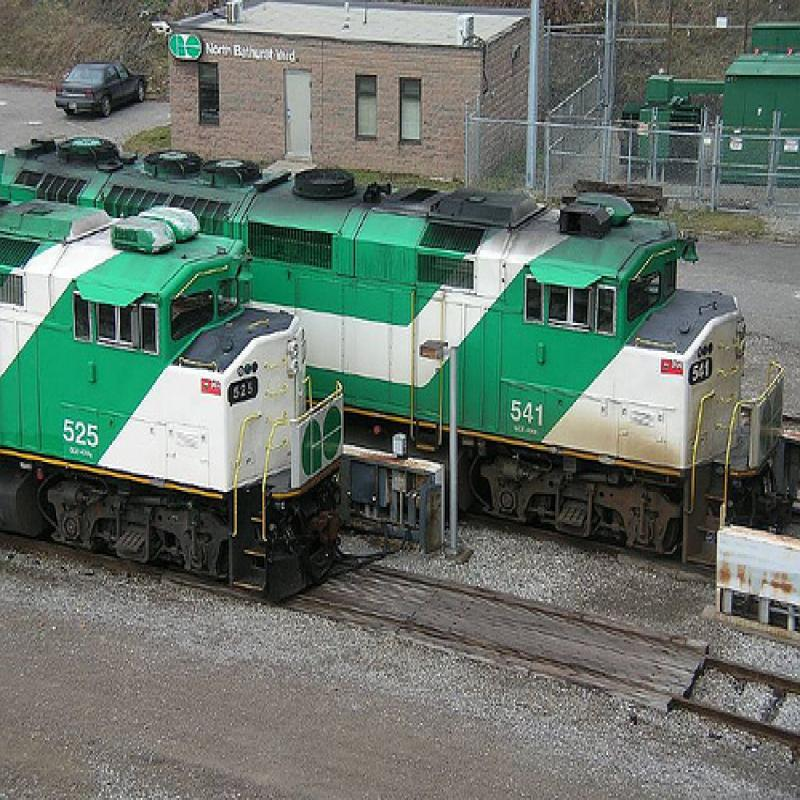train: (3, 138, 747, 566), (3, 202, 347, 606)
